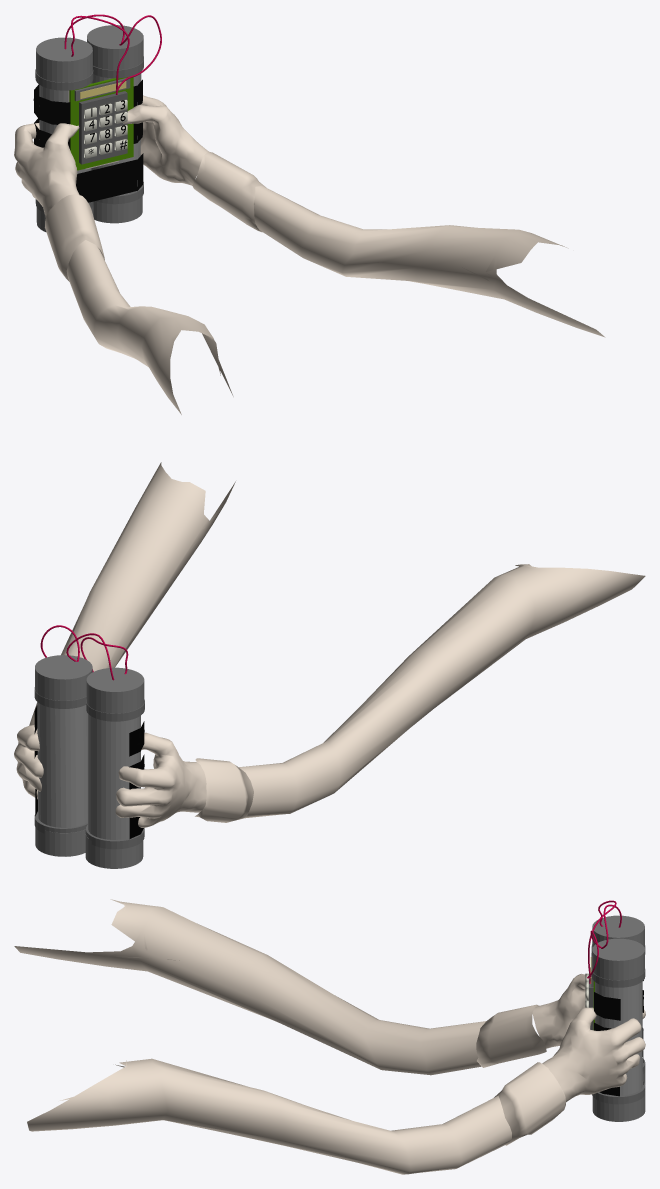
3 renders of one model, top to bottom at view 1: azimuth 30°, elevation 25°; view 2: azimuth 150°, elevation 25°; view 3: azimuth 270°, elevation 25°, orthographic. The views are drawn at different scales.
Visible parts, largest first — view 1: char, body; view 2: char, body; view 3: char, body.
Boxes of the visible parts, left/top/right/bottom form: char: left=14, top=95, right=605, bottom=414; body: left=33, top=14, right=161, bottom=231; char: left=14, top=462, right=645, bottom=827; body: left=34, top=625, right=144, bottom=868; char: left=14, top=899, right=645, bottom=1174; body: left=585, top=900, right=645, bottom=1121.
Size of the model in its own units: 0.7011 by 0.3213 by 0.8916.
